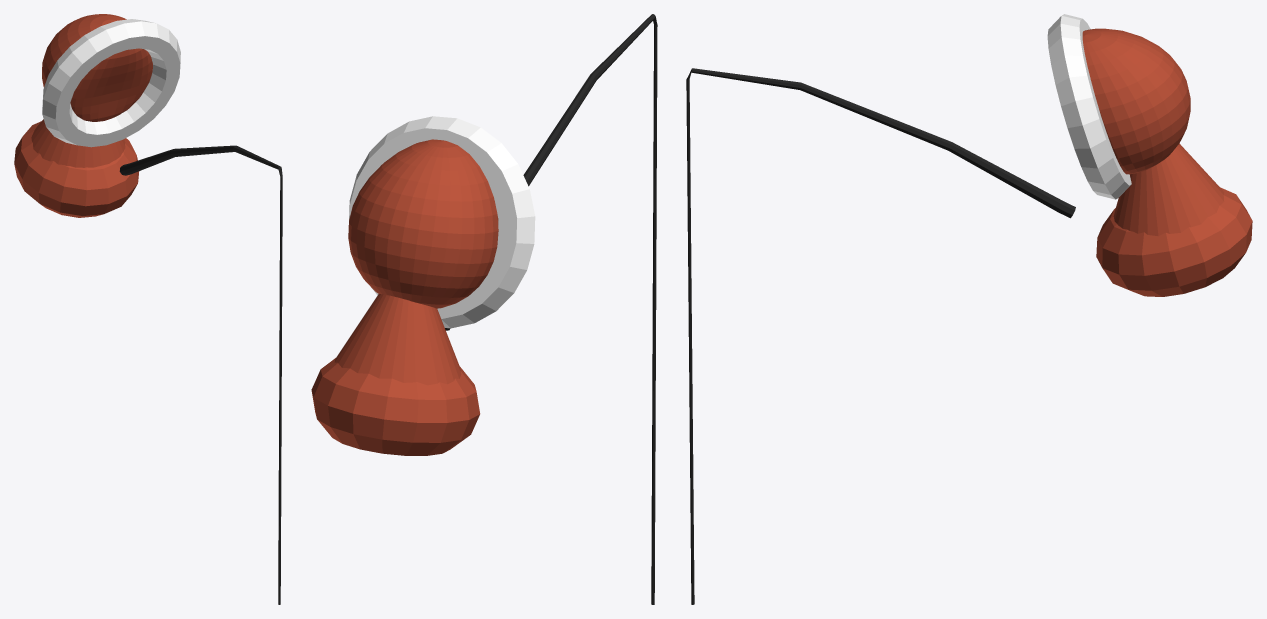
Rendered from fisherman.gltf.
3 renders of one model, left to right at view 1: azimuth 30°, elevation 25°; view 2: azimuth 150°, elevation 25°; view 3: azimuth 270°, elevation 25°, orthographic. The views are drawn at different scales.
Parts seen in each view (by area): view 1: Torus, Sphere.001, Sphere, Cylinder.001, Cone; view 2: Sphere, Sphere.001, Torus, Cone, Cylinder.001; view 3: Sphere, Sphere.001, Torus, Cone, Cylinder.001.
Boxes of the visible parts, box(x1,y1,x2,y2) form: Torus: box(42, 19, 180, 147); Sphere.001: box(14, 121, 139, 217); Sphere: box(42, 14, 152, 121); Cylinder.001: box(119, 145, 282, 604); Cone: box(31, 119, 125, 167); Sphere: box(348, 139, 498, 308); Sphere.001: box(311, 358, 480, 455); Torus: box(349, 116, 535, 328); Cone: box(334, 294, 461, 385); Cylinder.001: box(445, 14, 657, 604); Sphere: box(1082, 28, 1190, 174); Sphere.001: box(1096, 187, 1252, 296); Torus: box(1047, 14, 1131, 199); Cone: box(1113, 143, 1224, 236); Cylinder.001: box(686, 68, 1075, 604).
Bounding box in the file's own units: 1.14 × 3.76 × 3.34.
